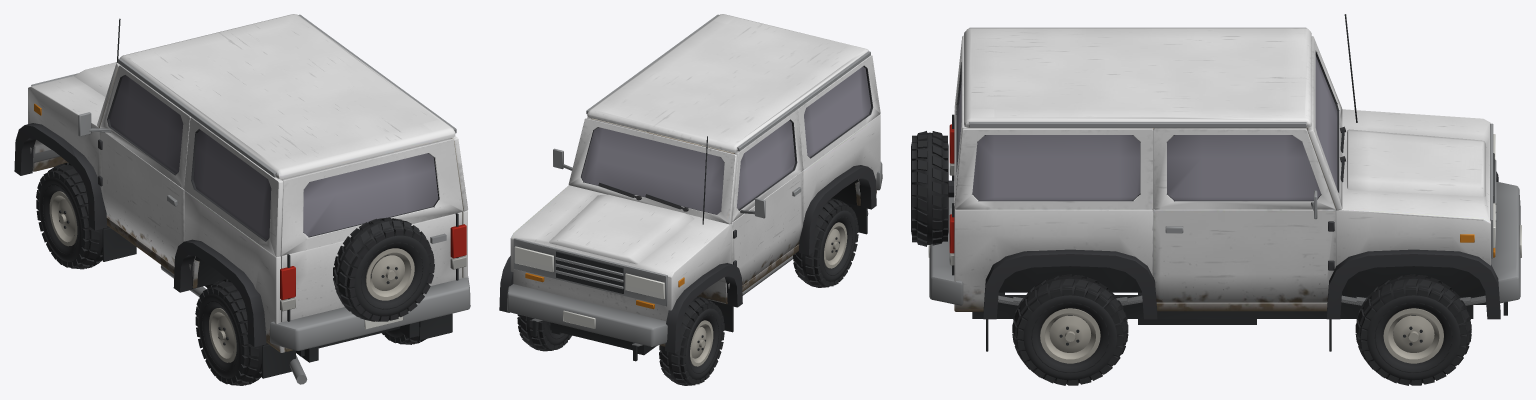
The model's file is seventy.glb.
3 renders of one model, left to right at view 1: azimuth 30°, elevation 25°; view 2: azimuth 150°, elevation 25°; view 3: azimuth 270°, elevation 25°, orthographic. The views are drawn at different scales.
Visible parts, largest first — view 1: body, door_FL, wheel_FL, wheel_RL; view 2: body, door_FL, wheel_FL, wheel_RL, wheel_FR; view 3: body, door_FR, wheel_RR, wheel_FR.
Part boxes in pixels (bbox=[...]): body: bbox=[14, 14, 470, 384]; door_FL: bbox=[78, 65, 191, 266]; wheel_FL: bbox=[36, 162, 109, 269]; wheel_RL: bbox=[195, 279, 268, 385]; body: bbox=[499, 14, 882, 361]; door_FL: bbox=[732, 109, 803, 285]; wheel_FL: bbox=[659, 296, 724, 385]; wheel_RL: bbox=[793, 198, 858, 287]; wheel_FR: bbox=[517, 314, 571, 351]; body: bbox=[911, 14, 1521, 351]; door_FR: bbox=[1153, 128, 1335, 302]; wheel_RR: bbox=[1012, 274, 1128, 385]; wheel_FR: bbox=[1355, 274, 1471, 385].
Size of the model in its own units: 2.11 by 2.13 by 4.11.
16 materials, 1 textured.
